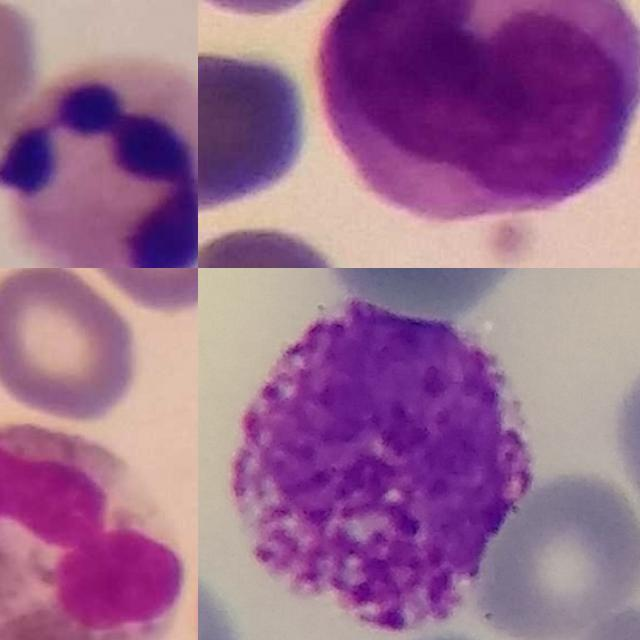Basophil: (229, 304, 532, 635)
Eosinophil: (0, 421, 195, 640)
Monocyte: (318, 0, 640, 224)
Neutrophil: (0, 51, 198, 268)
